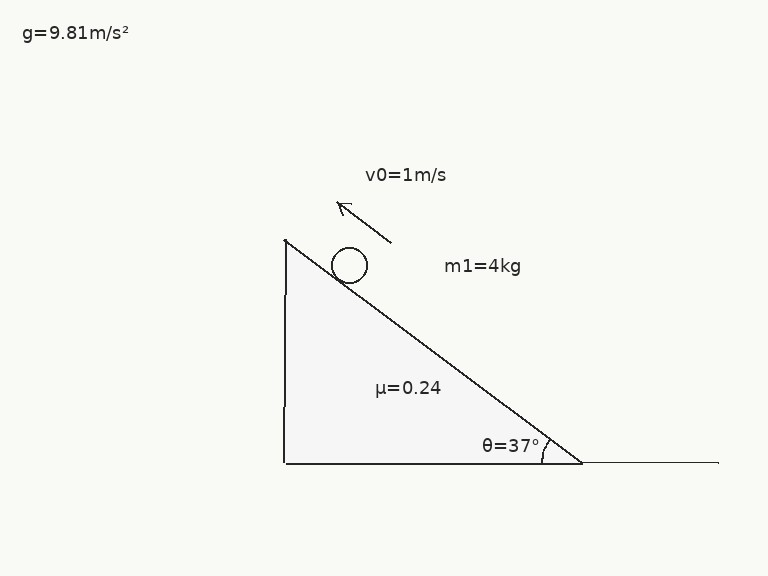ball: (329, 245, 369, 285)
ramp: (283, 237, 584, 465)
